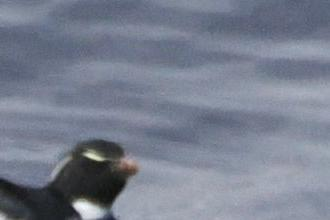Southern Rockhopper Penguin: (0, 118, 146, 220)
